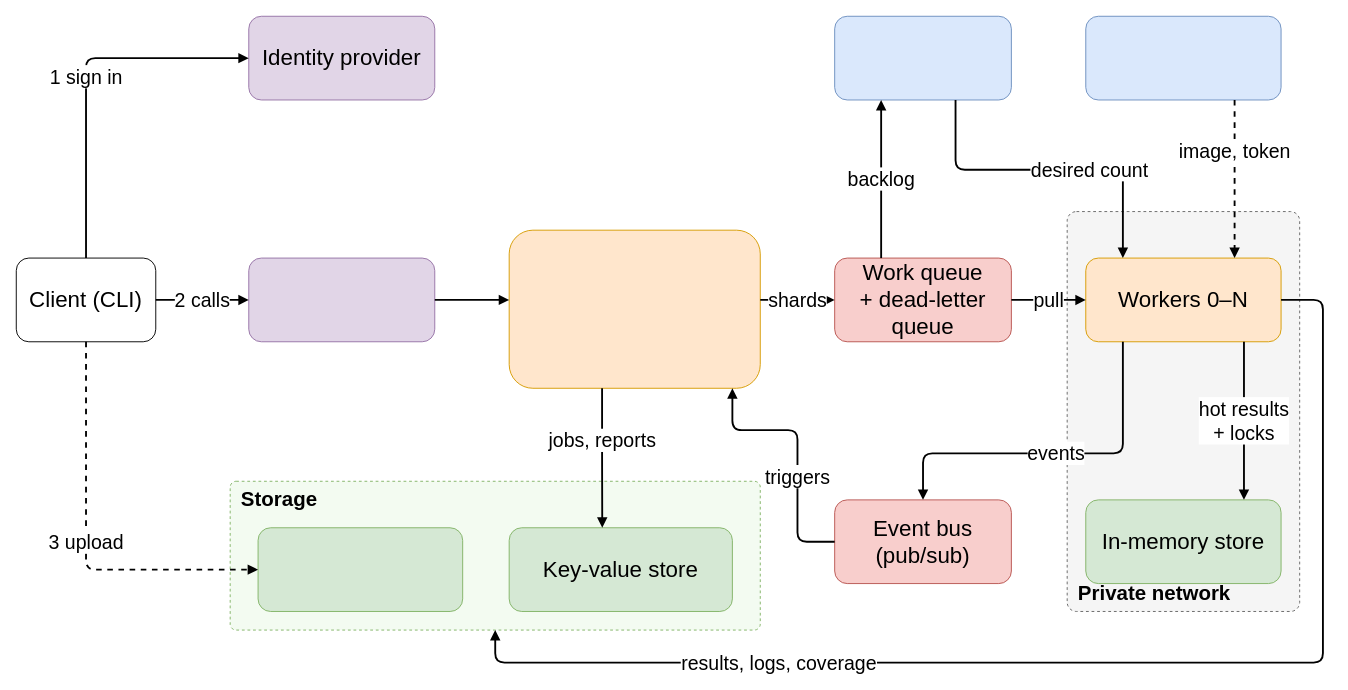
This 1348x690 diagram has some shape labels left out. Here are the shapes that lost their labels. From the top down, the centre of each, then its label:
[922,57]: Autoscaler (backlog metric)
[1183,57]: Image registry + secret store
[341,299]: API gateway + token check
[634,308]: Control-plane functions API · planner aggregator dead-letter handler
[360,569]: Object store
